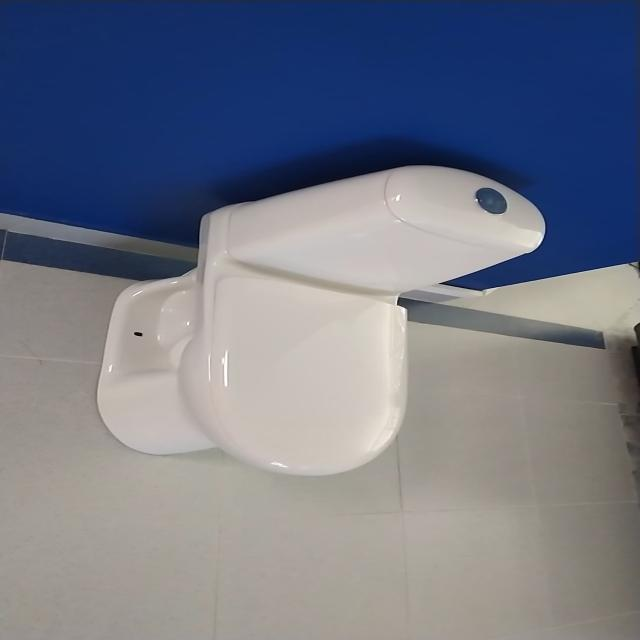toilet: (92, 158, 557, 484)
